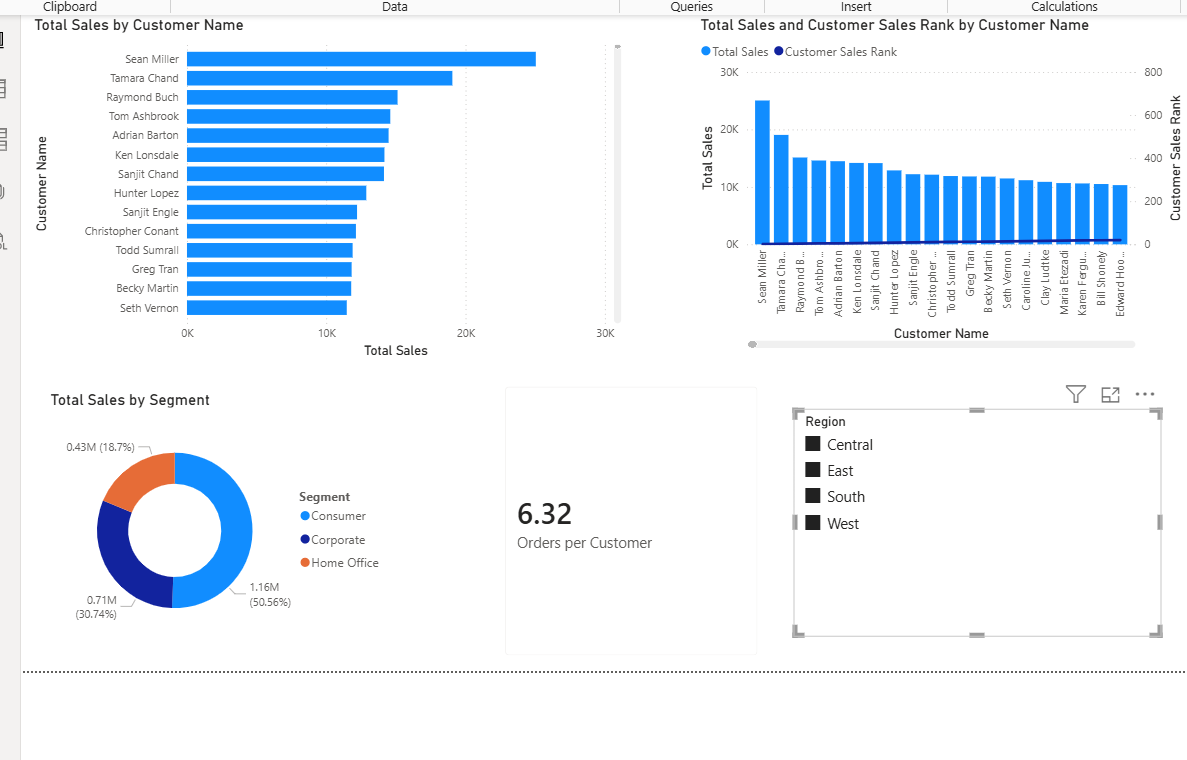

Layout of this report page (visuals, bound fields, positions):
{"tool":"powerbi","page":{"name":"Customer Intelligence","canvas":[1280,720],"ordinal":2},"visuals":[{"type":"clusteredBarChart","fields":{"Category":["Sample - Superstore.Customer Name"],"Y":["Dim_Date.Total Sales"]},"box":[9.6,0,654.5,381.5],"z":0},{"type":"donutChart","fields":{"Category":["Sample - Superstore.Segment"],"Y":["Dim_Date.Total Sales"]},"box":[27.4,411.7,380.1,289.5],"z":1},{"type":"cardVisual","fields":{"Data":["Dim_Date.Orders per Customer"]},"box":[514.6,391.1,311.5,329.3],"z":2},{"type":"lineClusteredColumnComboChart","fields":{"Category":["Sample - Superstore.Customer Name"],"Y":["Dim_Date.Total Sales"],"Y2":["Dim_Date.Customer Sales Rank"]},"box":[741,0,539.3,370.5],"z":3},{"type":"slicer","fields":{"Values":["Sample - Superstore.Region"]},"box":[848,432.2,403.4,249.7],"z":4}]}

Visuals, with their boxes on the page's 1280x720 design canvas (x1, y1, x2, y2). These are canvas units, not pixel positions in the 1187x760 screenshot, which may show the page scaled, cropped or inside an application window:
clusteredBarChart - Sample - Superstore.Customer Name x Dim_Date.Total Sales: bbox=[10, 0, 664, 382]
donutChart - Sample - Superstore.Segment x Dim_Date.Total Sales: bbox=[27, 412, 408, 701]
cardVisual - Dim_Date.Orders per Customer: bbox=[515, 391, 826, 720]
lineClusteredColumnComboChart - Sample - Superstore.Customer Name x Dim_Date.Total Sales: bbox=[741, 0, 1280, 370]
slicer - Sample - Superstore.Region: bbox=[848, 432, 1251, 682]
